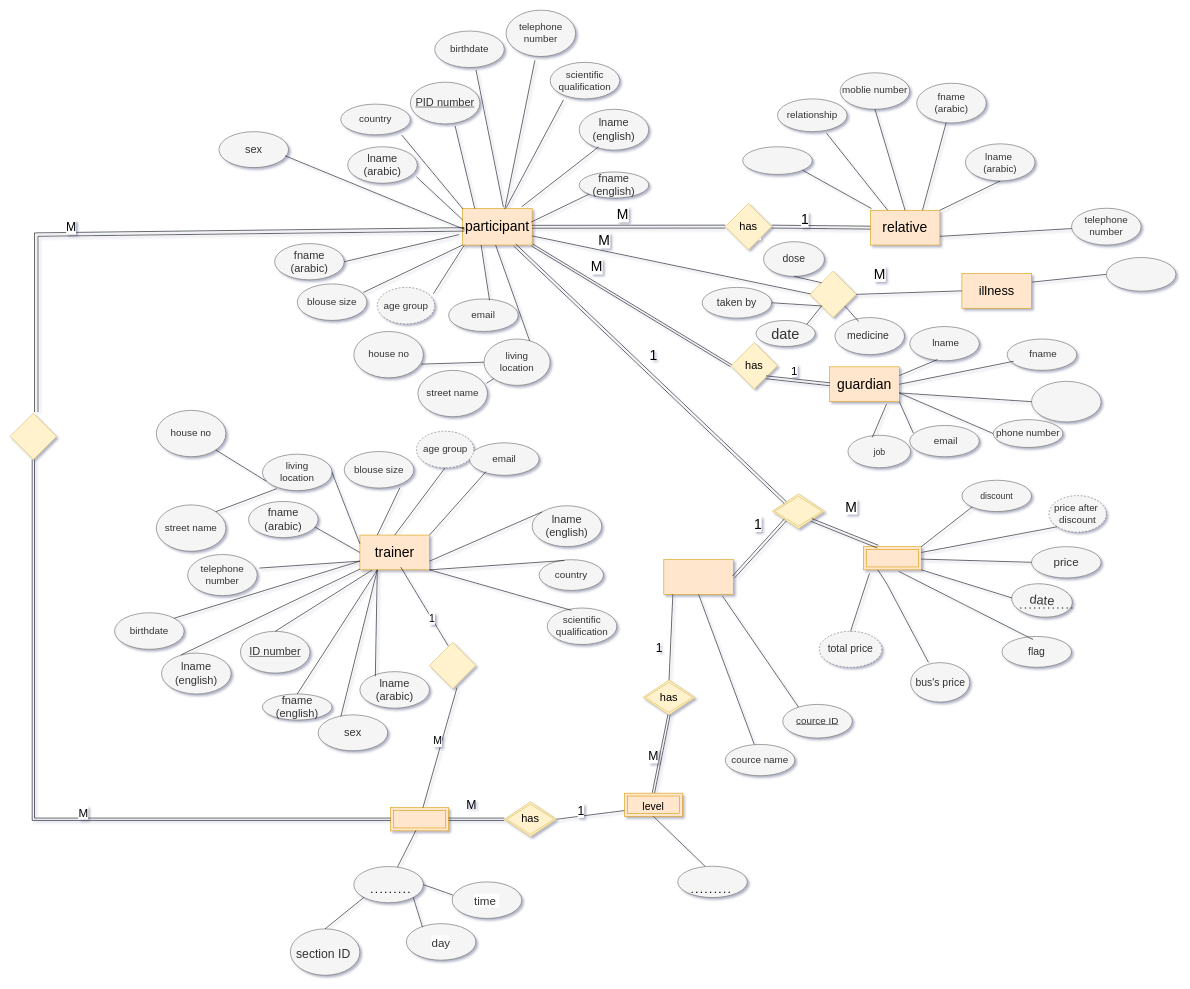
Some shapes in this 1190 by 989 pixel diagram are drawn without their labels. Here are the shapes that lost their labels. From the top down, the box of each, then its label:
(742, 146, 812, 174): RID number
(1106, 257, 1176, 291): illness name
(809, 271, 856, 318): get
(1031, 381, 1101, 422): GID number
(10, 413, 57, 460): take
(772, 493, 824, 529): pay
(663, 559, 733, 594): course
(863, 546, 921, 570): installment
(429, 642, 476, 689): train
(390, 807, 449, 831): section
(353, 866, 423, 903): key
(677, 866, 747, 898): level ID
